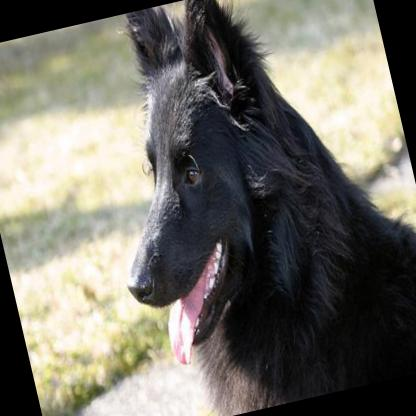groenendael: (64, 0, 416, 416)
